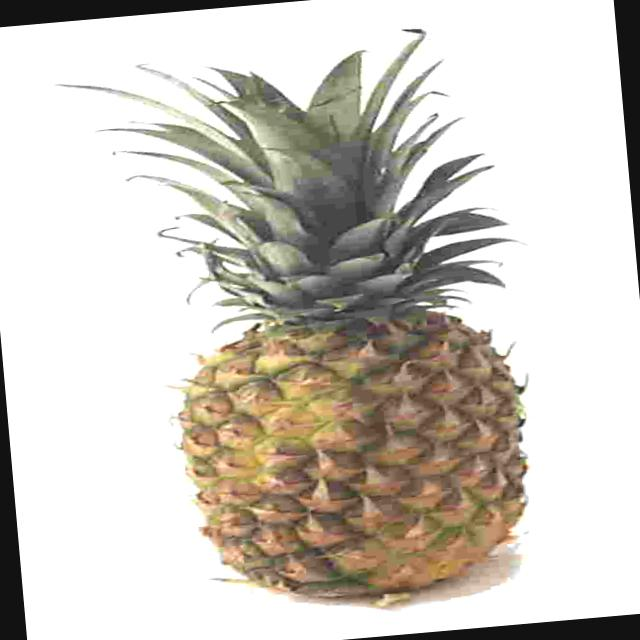pineapple: (132, 240, 558, 629)
